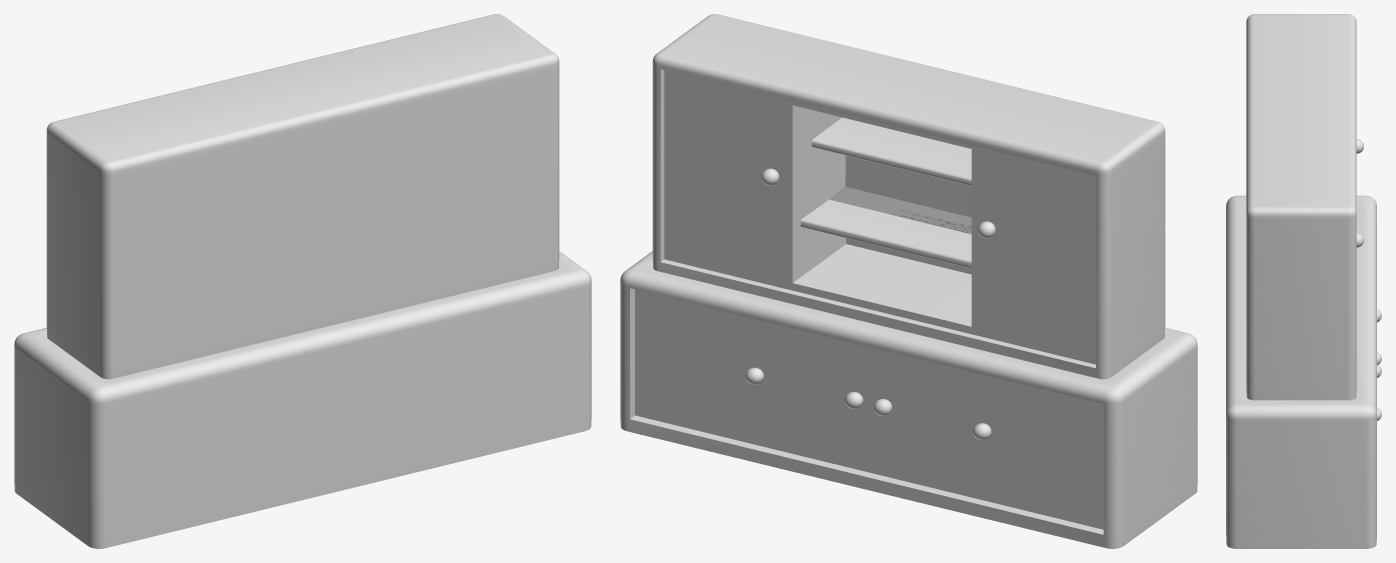
The model's file is BookCabinetLivingRoom.fbx.
3 views of the same model, side by side, from view 1: azimuth 30°, elevation 25°; view 2: azimuth 150°, elevation 25°; view 3: azimuth 270°, elevation 25° (orthographic). The views are drawn at different scales.
Parts seen in each view (by area): view 1: BookCabinetLivingRoom; view 2: BookCabinetLivingRoom; view 3: BookCabinetLivingRoom.
Boxes of the visible parts, left/top/right/bottom form: BookCabinetLivingRoom: left=14, top=14, right=591, bottom=548; BookCabinetLivingRoom: left=620, top=14, right=1197, bottom=548; BookCabinetLivingRoom: left=1226, top=14, right=1381, bottom=548.
Size of the model in its own units: 693 by 489 by 210.
